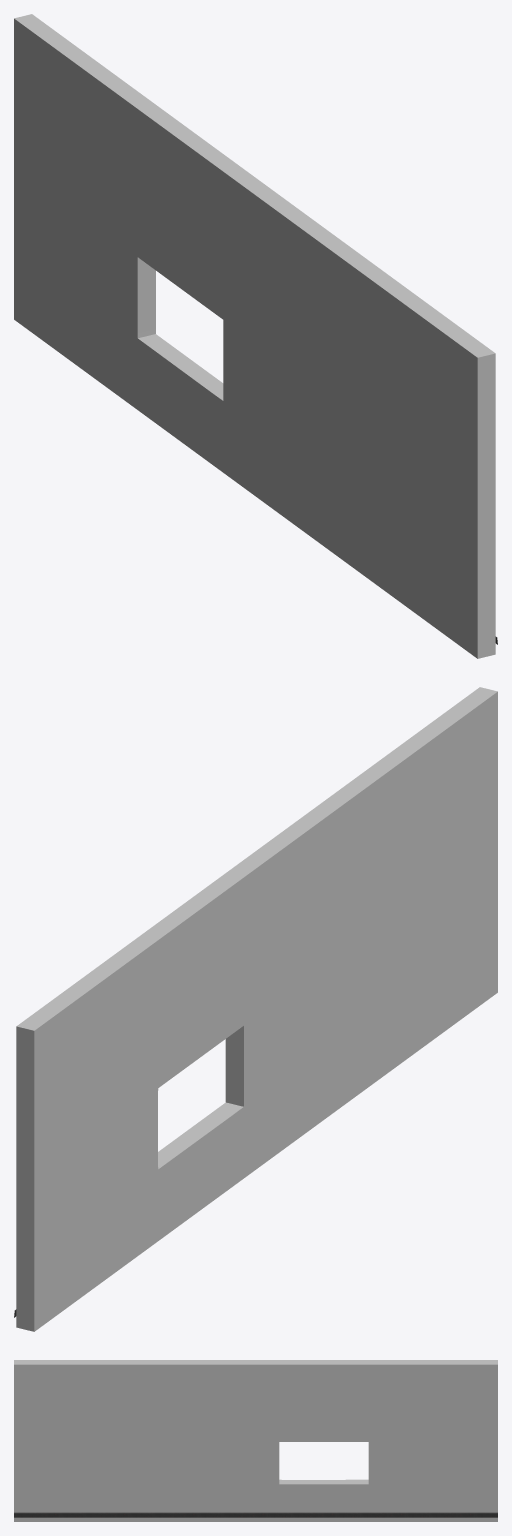
File: BG_GR_BD_Wall_01.fbx
3 renders of one model, top to bottom at view 1: azimuth 30°, elevation 25°; view 2: azimuth 150°, elevation 25°; view 3: azimuth 270°, elevation 25°, orthographic. The views are drawn at different scales.
Parts seen in each view (by area): view 1: GenRm_wall_.001; view 2: GenRm_wall_.001; view 3: GenRm_wall_.001, GenRm_wall_bottom_low.018.
Part boxes in pixels (left/top/right/bottom): GenRm_wall_.001: left=14, top=14, right=495, bottom=658; GenRm_wall_.001: left=16, top=687, right=497, bottom=1331; GenRm_wall_.001: left=14, top=1360, right=497, bottom=1521; GenRm_wall_bottom_low.018: left=14, top=1512, right=497, bottom=1517.
Size of the model in its own units: 0.4438 by 17.5 by 6.27.
